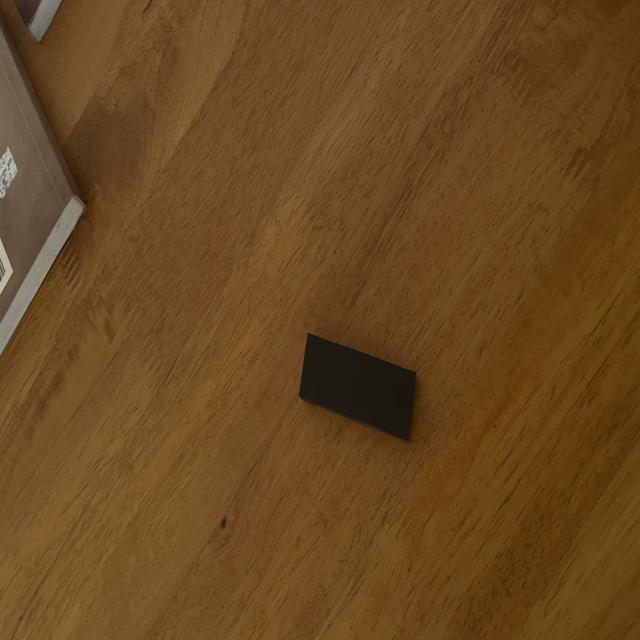eraser: (299, 334, 416, 442)
